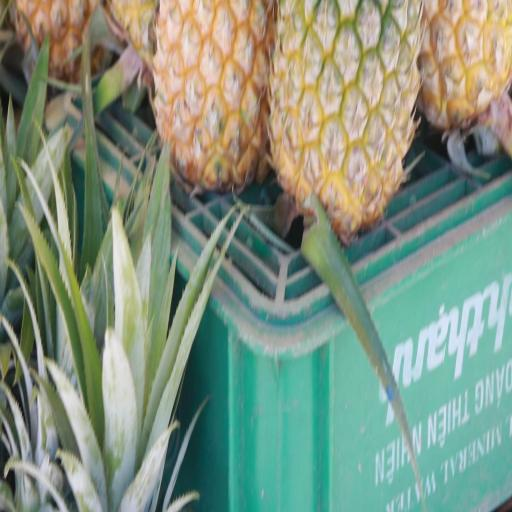Pineapple - v8 v1: (268, 1, 422, 251), (149, 0, 275, 197)
